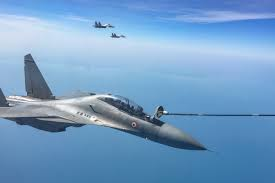maybay_muctieu: (5, 61, 223, 158), (90, 18, 121, 29), (108, 29, 127, 41)
